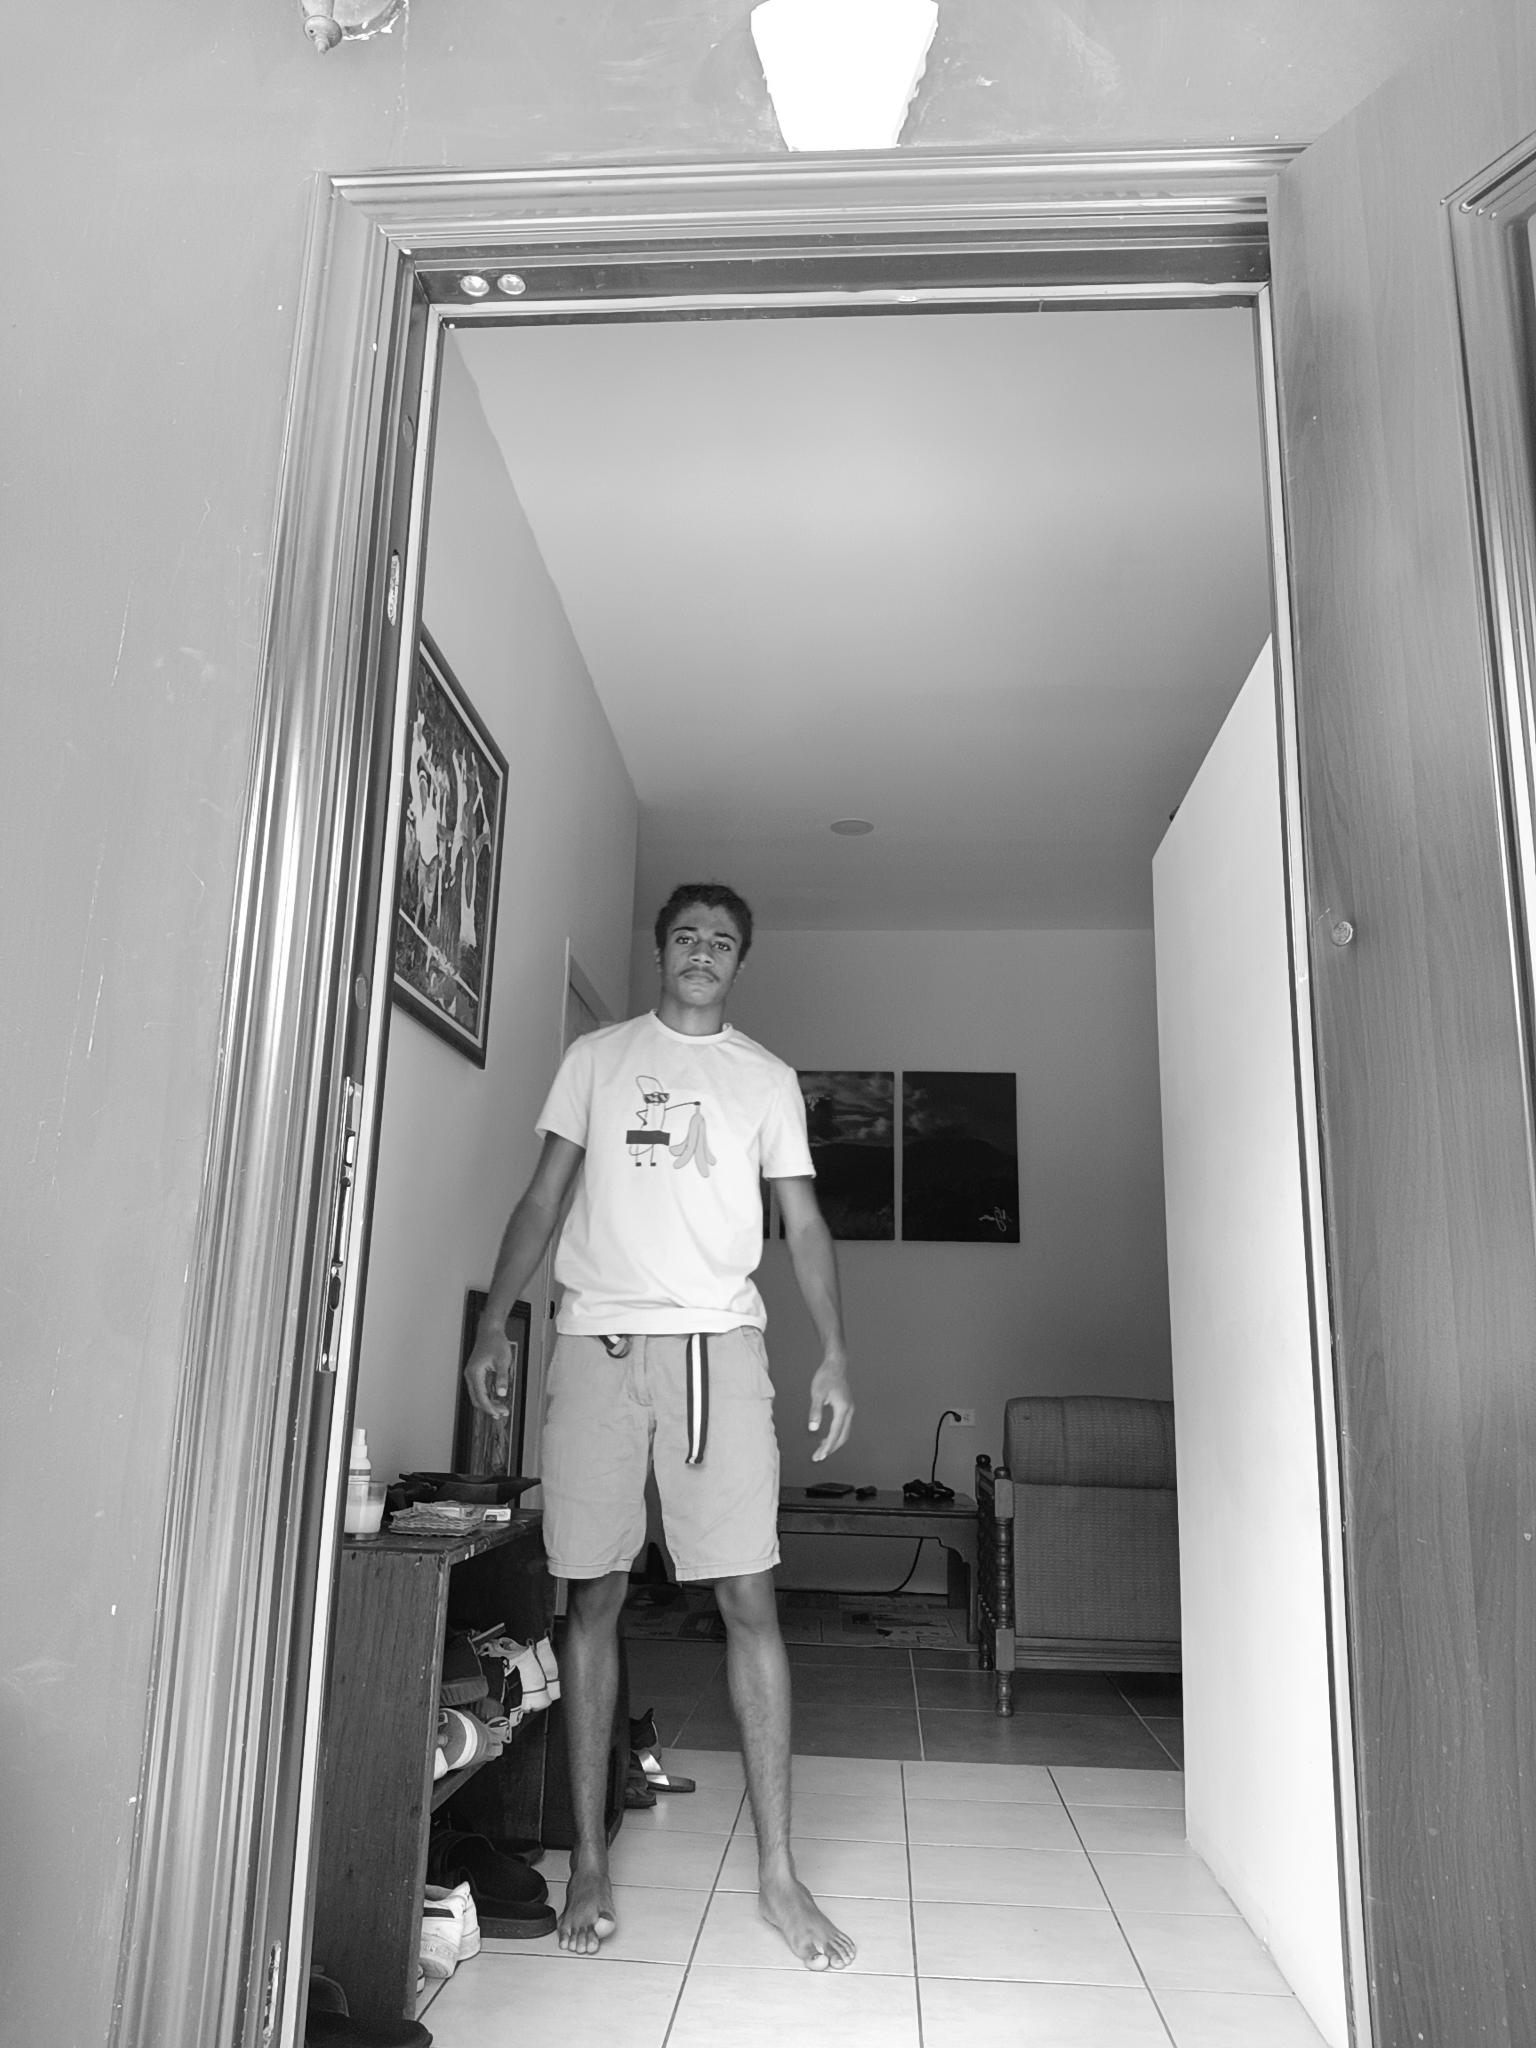front: (457, 876, 868, 1974)
